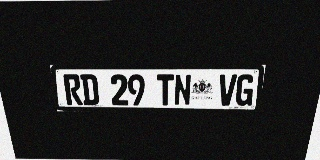2: (110, 74, 128, 105)
9: (128, 74, 145, 105)
D: (80, 74, 99, 105)
G: (235, 74, 255, 106)
N: (174, 74, 191, 106)
R: (63, 74, 83, 105)
T: (157, 74, 174, 106)
V: (217, 74, 237, 106)
